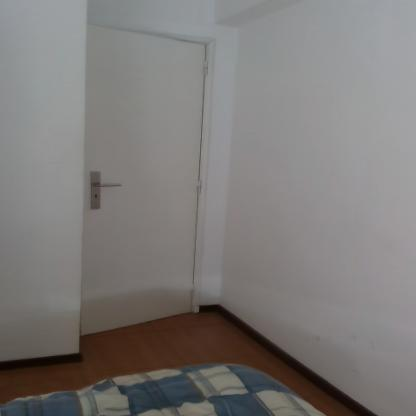door: (89, 30, 198, 318)
hinged: (202, 56, 211, 77), (194, 178, 204, 196), (190, 282, 198, 300)
lever: (92, 182, 125, 189)
